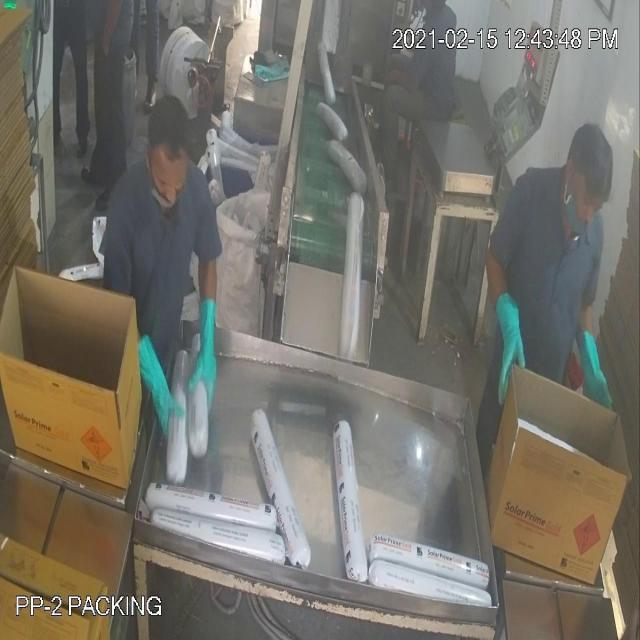Gloves: (35, 46, 596, 384)
